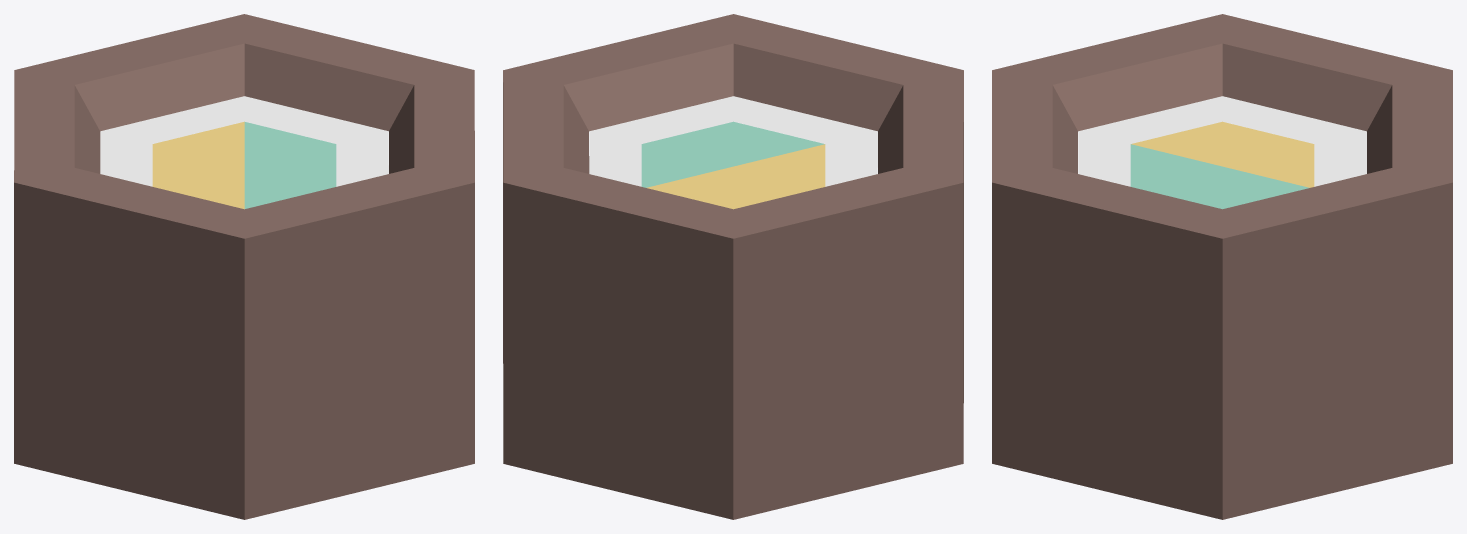
The picture shows the model from 3 angles, left to right: view 1: azimuth 30°, elevation 25°; view 2: azimuth 150°, elevation 25°; view 3: azimuth 270°, elevation 25°; orthographic projection.
Parts seen in each view (by area): view 1: makiVegetable; view 2: makiVegetable; view 3: makiVegetable.
Part boxes in pixels (x1=…): makiVegetable: x1=14, y1=14, x2=474, y2=519; makiVegetable: x1=503, y1=14, x2=963, y2=519; makiVegetable: x1=992, y1=14, x2=1452, y2=519.
Bounding box in the file's own units: 0.12 × 0.07 × 0.1039.
